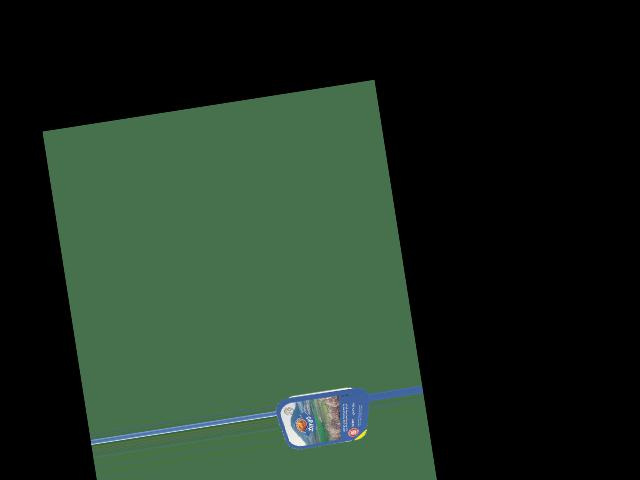cheese: (279, 379, 365, 453)
